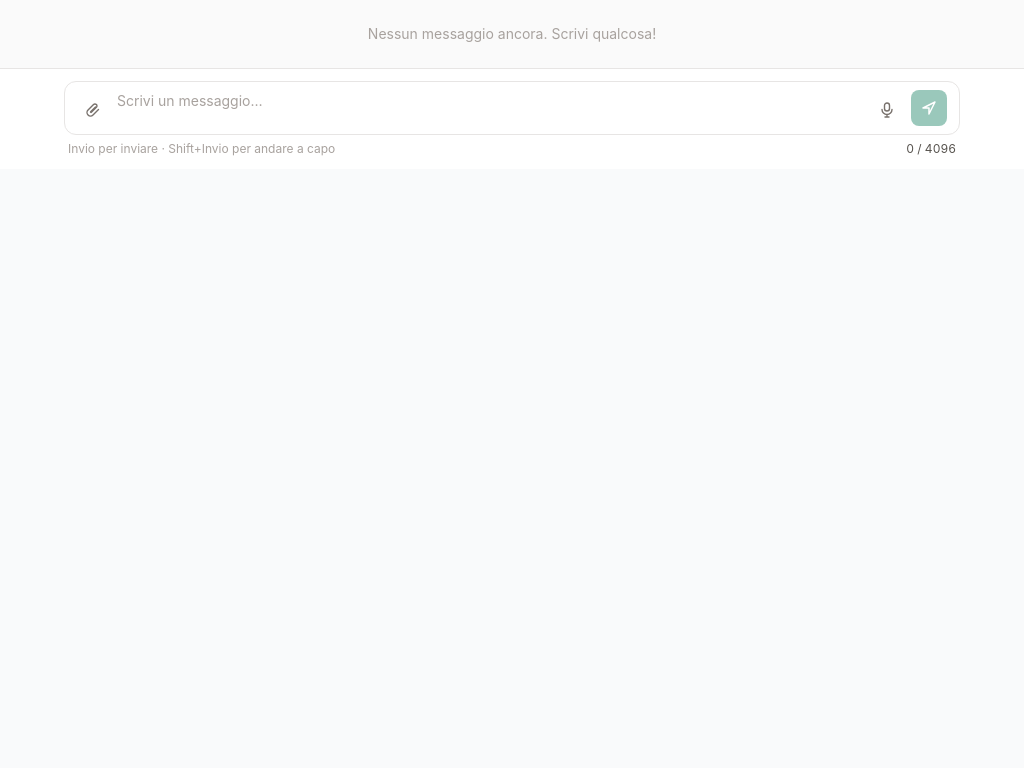
Test case: ChatArea – handleMicClick: avvio registrazione › mostra popup se getUserMedia fallisce
Click the button named "registra messaggio vocale" at (887, 110), box [871, 94, 903, 126]
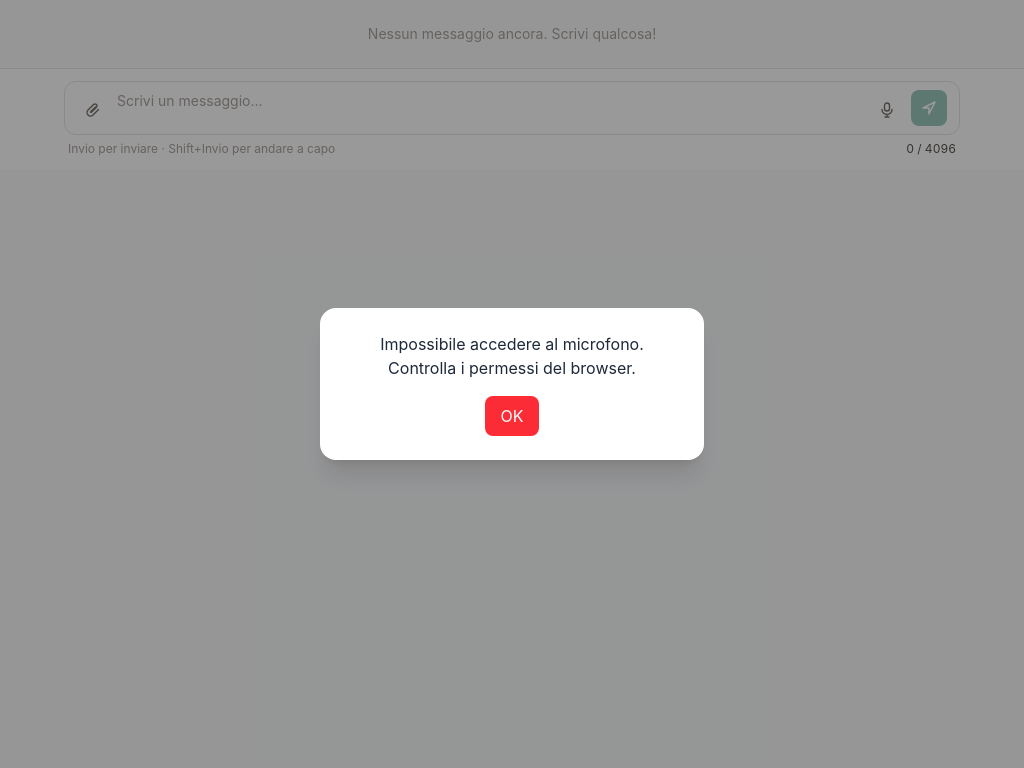
Now the text "Impossibile accedere al microfono" is shown, box [380, 334, 644, 378]
